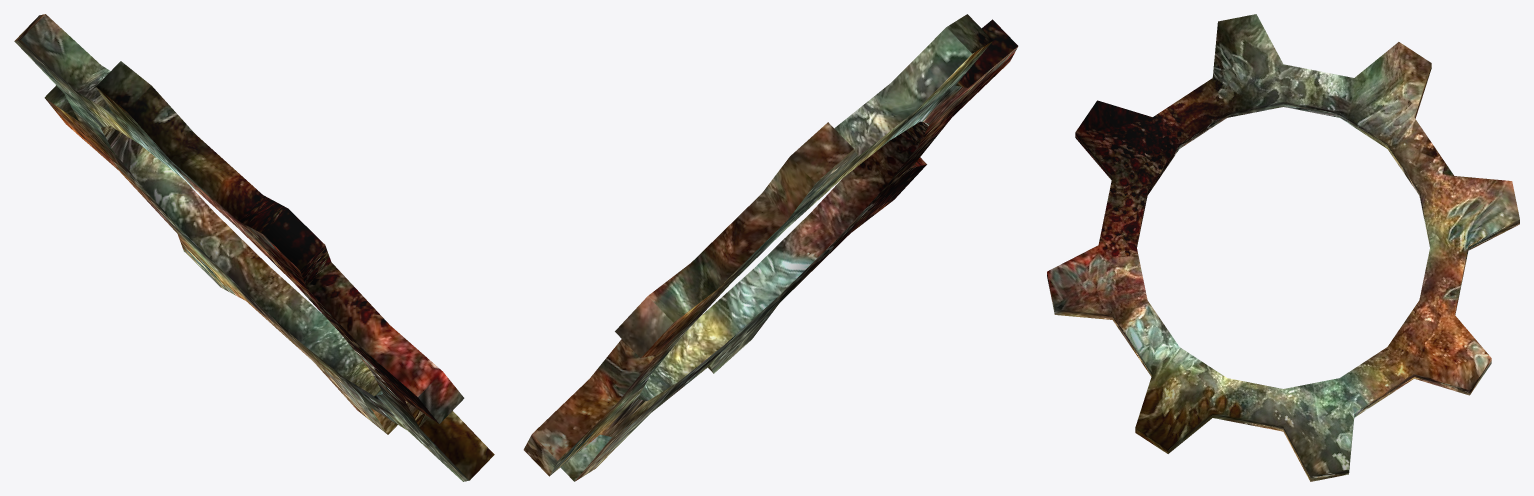
Rendered from Gear2.FBX.
The picture shows the model from 3 angles, left to right: view 1: azimuth 30°, elevation 25°; view 2: azimuth 150°, elevation 25°; view 3: azimuth 270°, elevation 25°; orthographic projection. The views are drawn at different scales.
Parts seen in each view (by area): view 1: Gear_Sphere_0; view 2: Gear_Sphere_0; view 3: Gear_Sphere_0.
Part boxes in pixels (x1,y1,x2,y2): Gear_Sphere_0: (14, 14, 494, 481); Gear_Sphere_0: (523, 14, 1018, 481); Gear_Sphere_0: (1047, 14, 1519, 481).
Size of the model in its own units: 3.71 by 4.76 by 5.72.
1 material, 1 textured.
